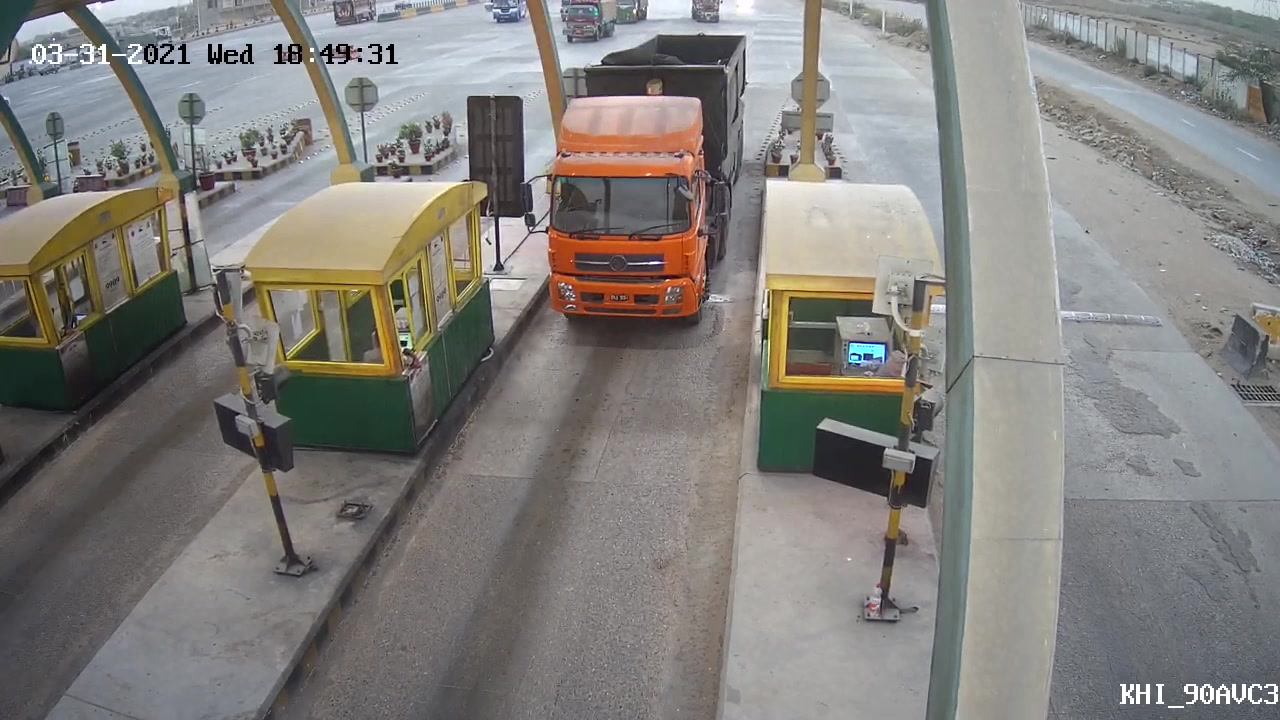F5: (512, 31, 754, 326)
